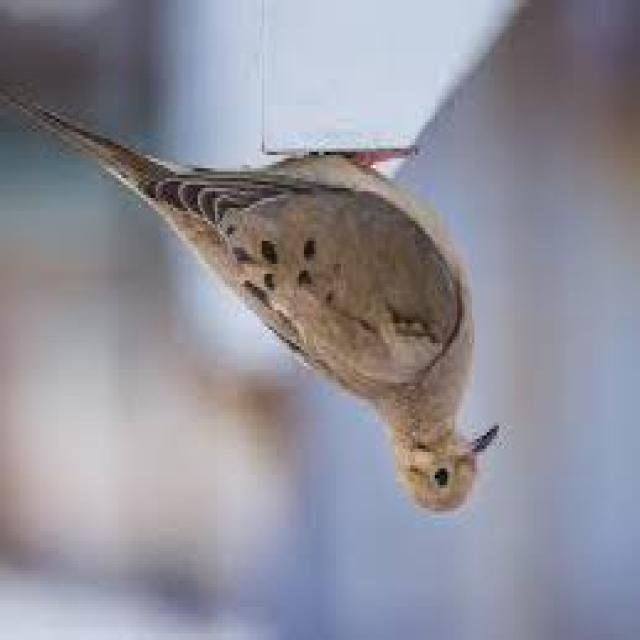pigeon: (6, 58, 514, 526)
